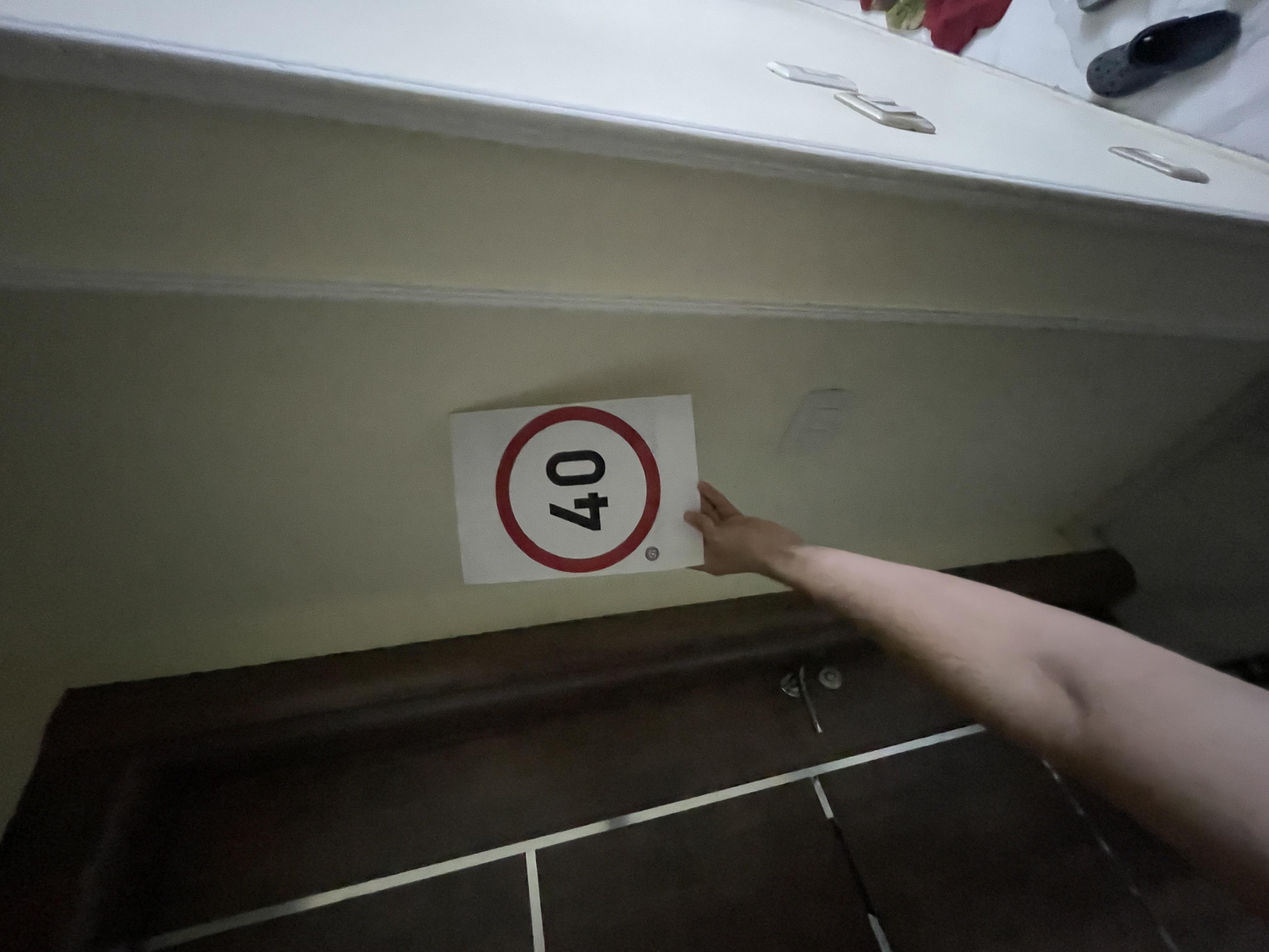40-Speed: (509, 378, 734, 500)
